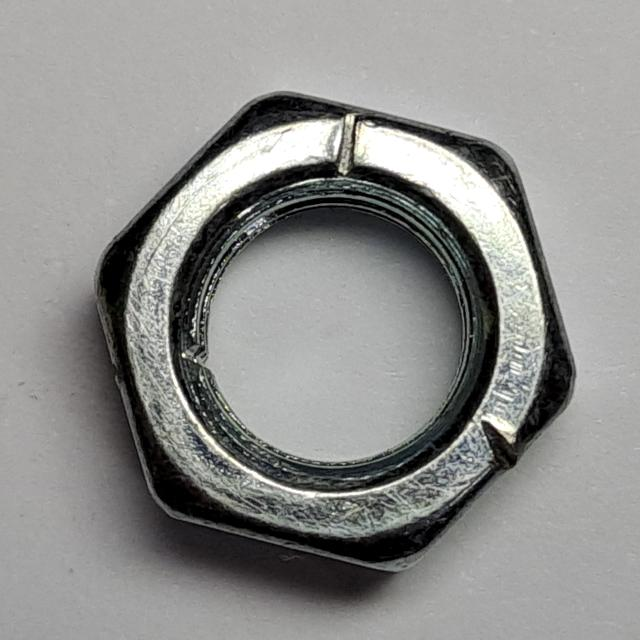Scratches: (87, 85, 586, 579)
